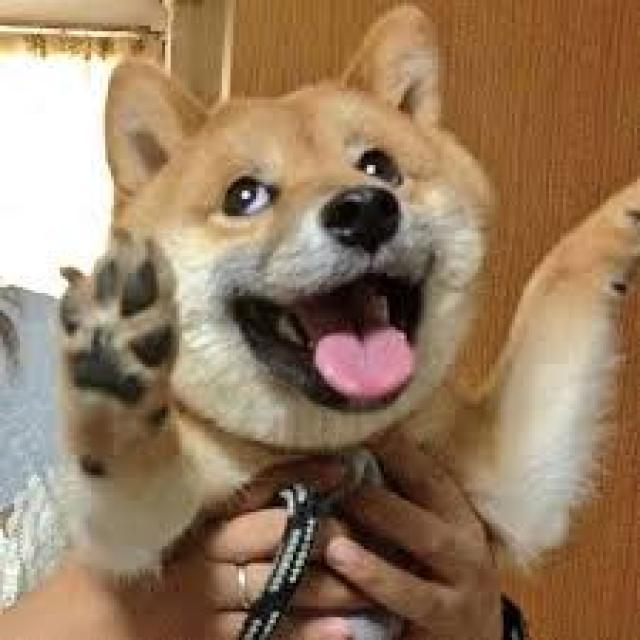dog: (61, 48, 625, 532)
